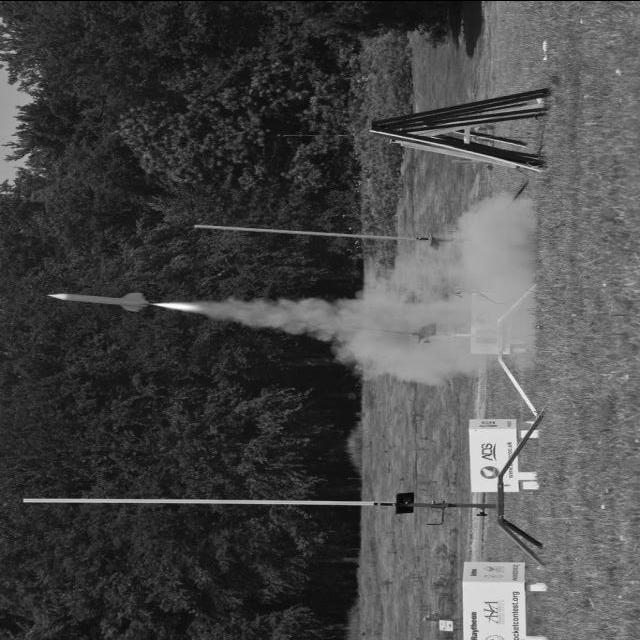missile: (46, 288, 154, 316)
